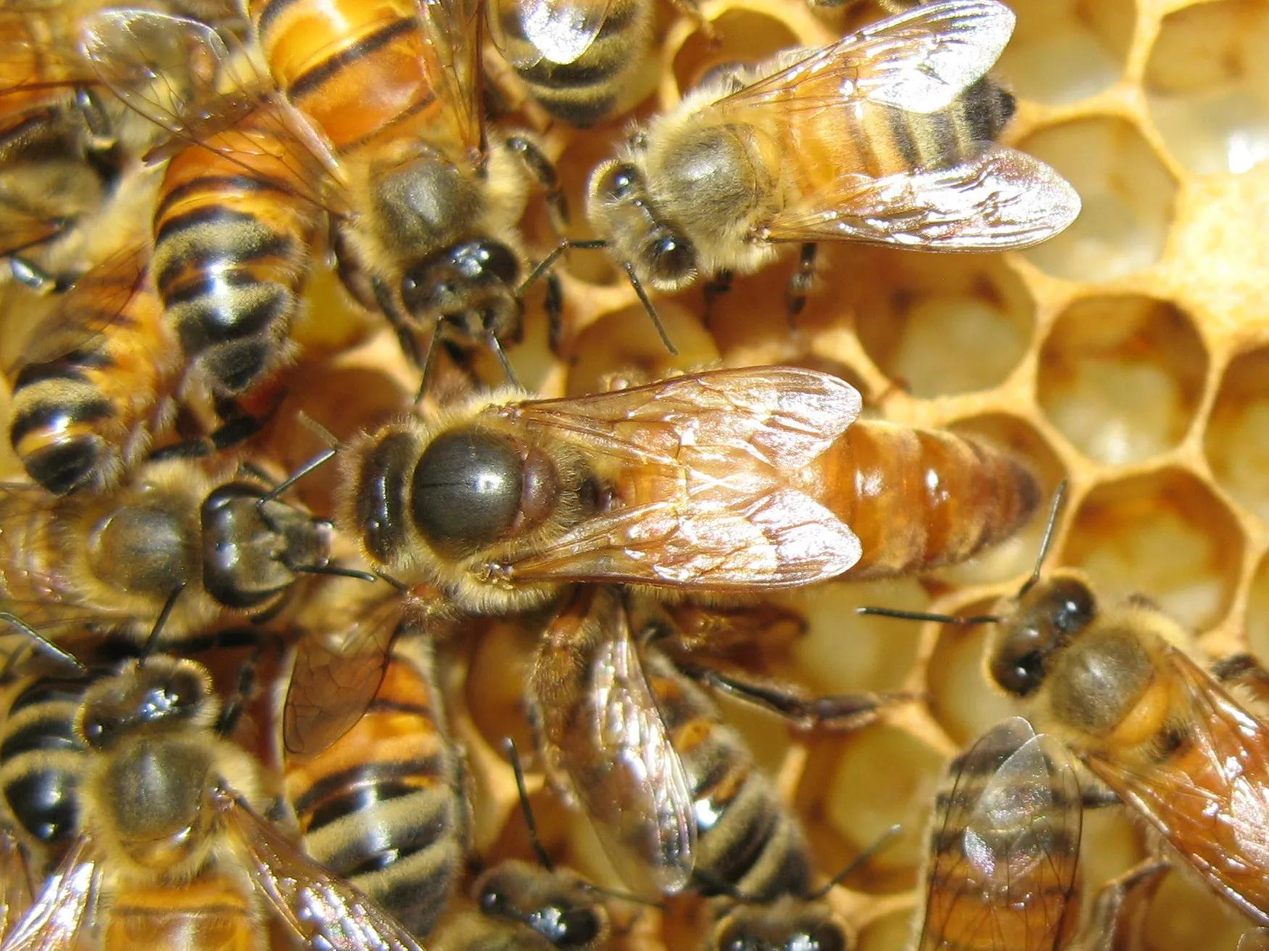Queen-Bee: (342, 366, 1037, 611)
worker-bee: (586, 0, 1080, 311), (0, 657, 419, 950), (246, 0, 566, 355), (985, 553, 1268, 926), (528, 585, 818, 909), (0, 461, 337, 638)
